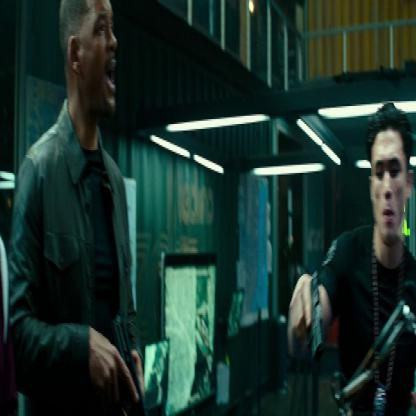Gun: (111, 304, 148, 414), (304, 268, 324, 367)
